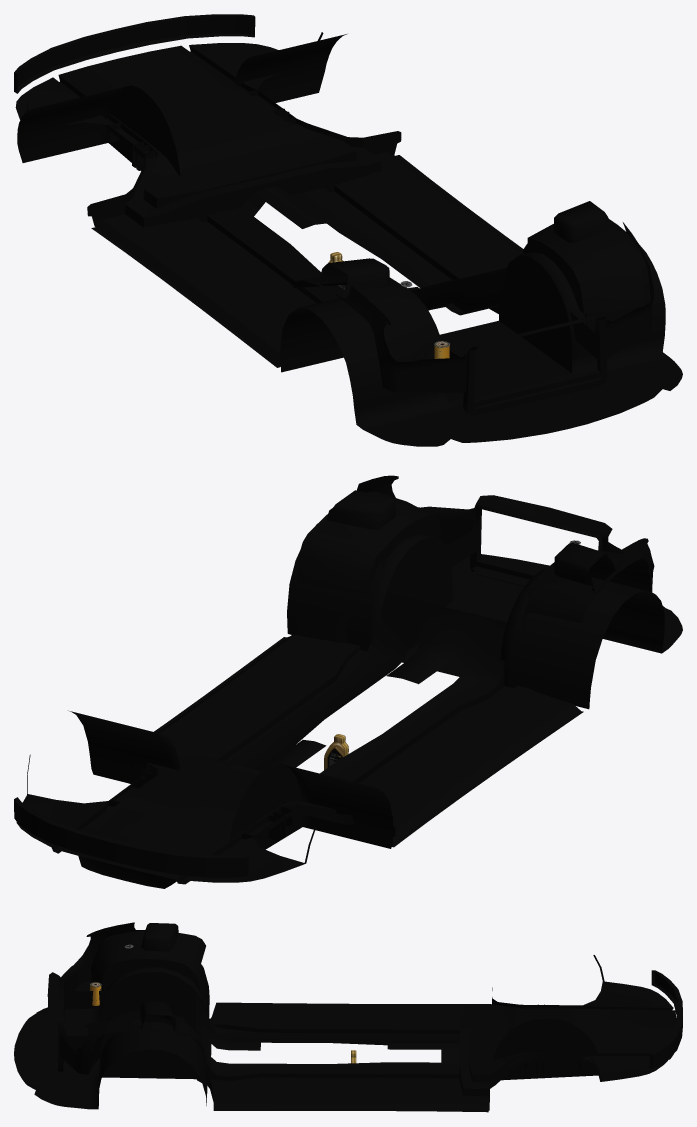
The model's file is Engine_Oil_All.fbx.
3 views of the same model, one above another, from view 1: azimuth 30°, elevation 25°; view 2: azimuth 150°, elevation 25°; view 3: azimuth 270°, elevation 25° (orthographic). The views are drawn at different scales.
Visible parts, largest first — view 1: e180_underbody.002; view 2: e180_underbody.002; view 3: e180_underbody.002.
Part boxes in pixels (<box>): e180_underbody.002: <box>14,14,682,446</box>; e180_underbody.002: <box>14,475,682,888</box>; e180_underbody.002: <box>14,922,682,1112</box>.
Size of the model in its own units: 439 by 84.99 by 176.
